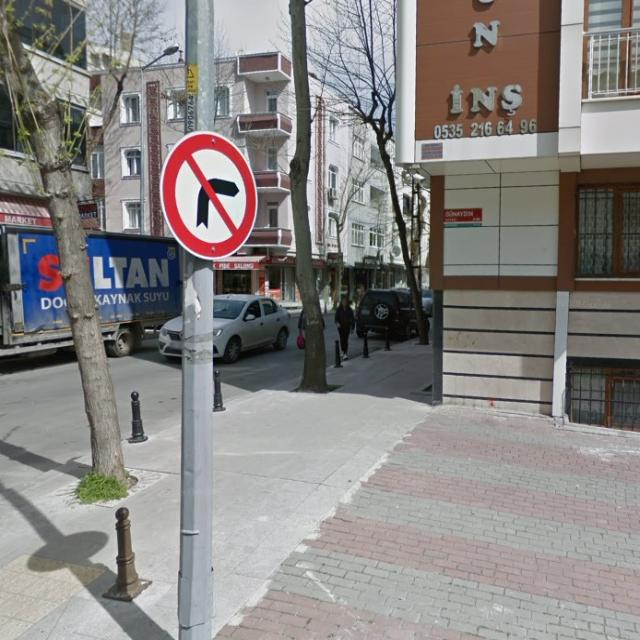sagadonulmez: (158, 132, 259, 260)
